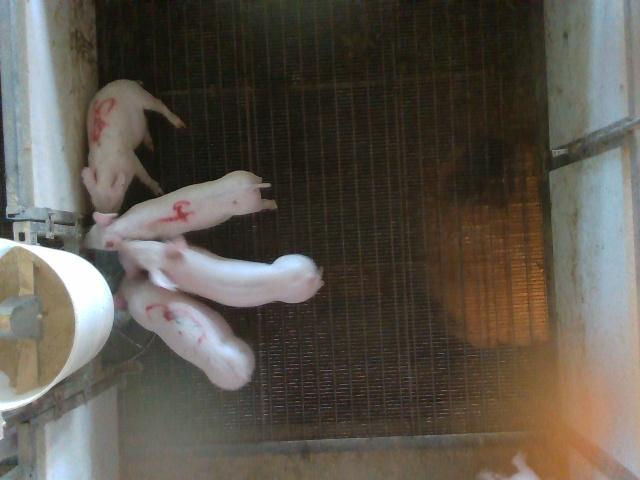pig-3: (120, 279, 255, 389)
pig-4: (85, 171, 276, 249)
pig-5: (82, 79, 184, 212)
